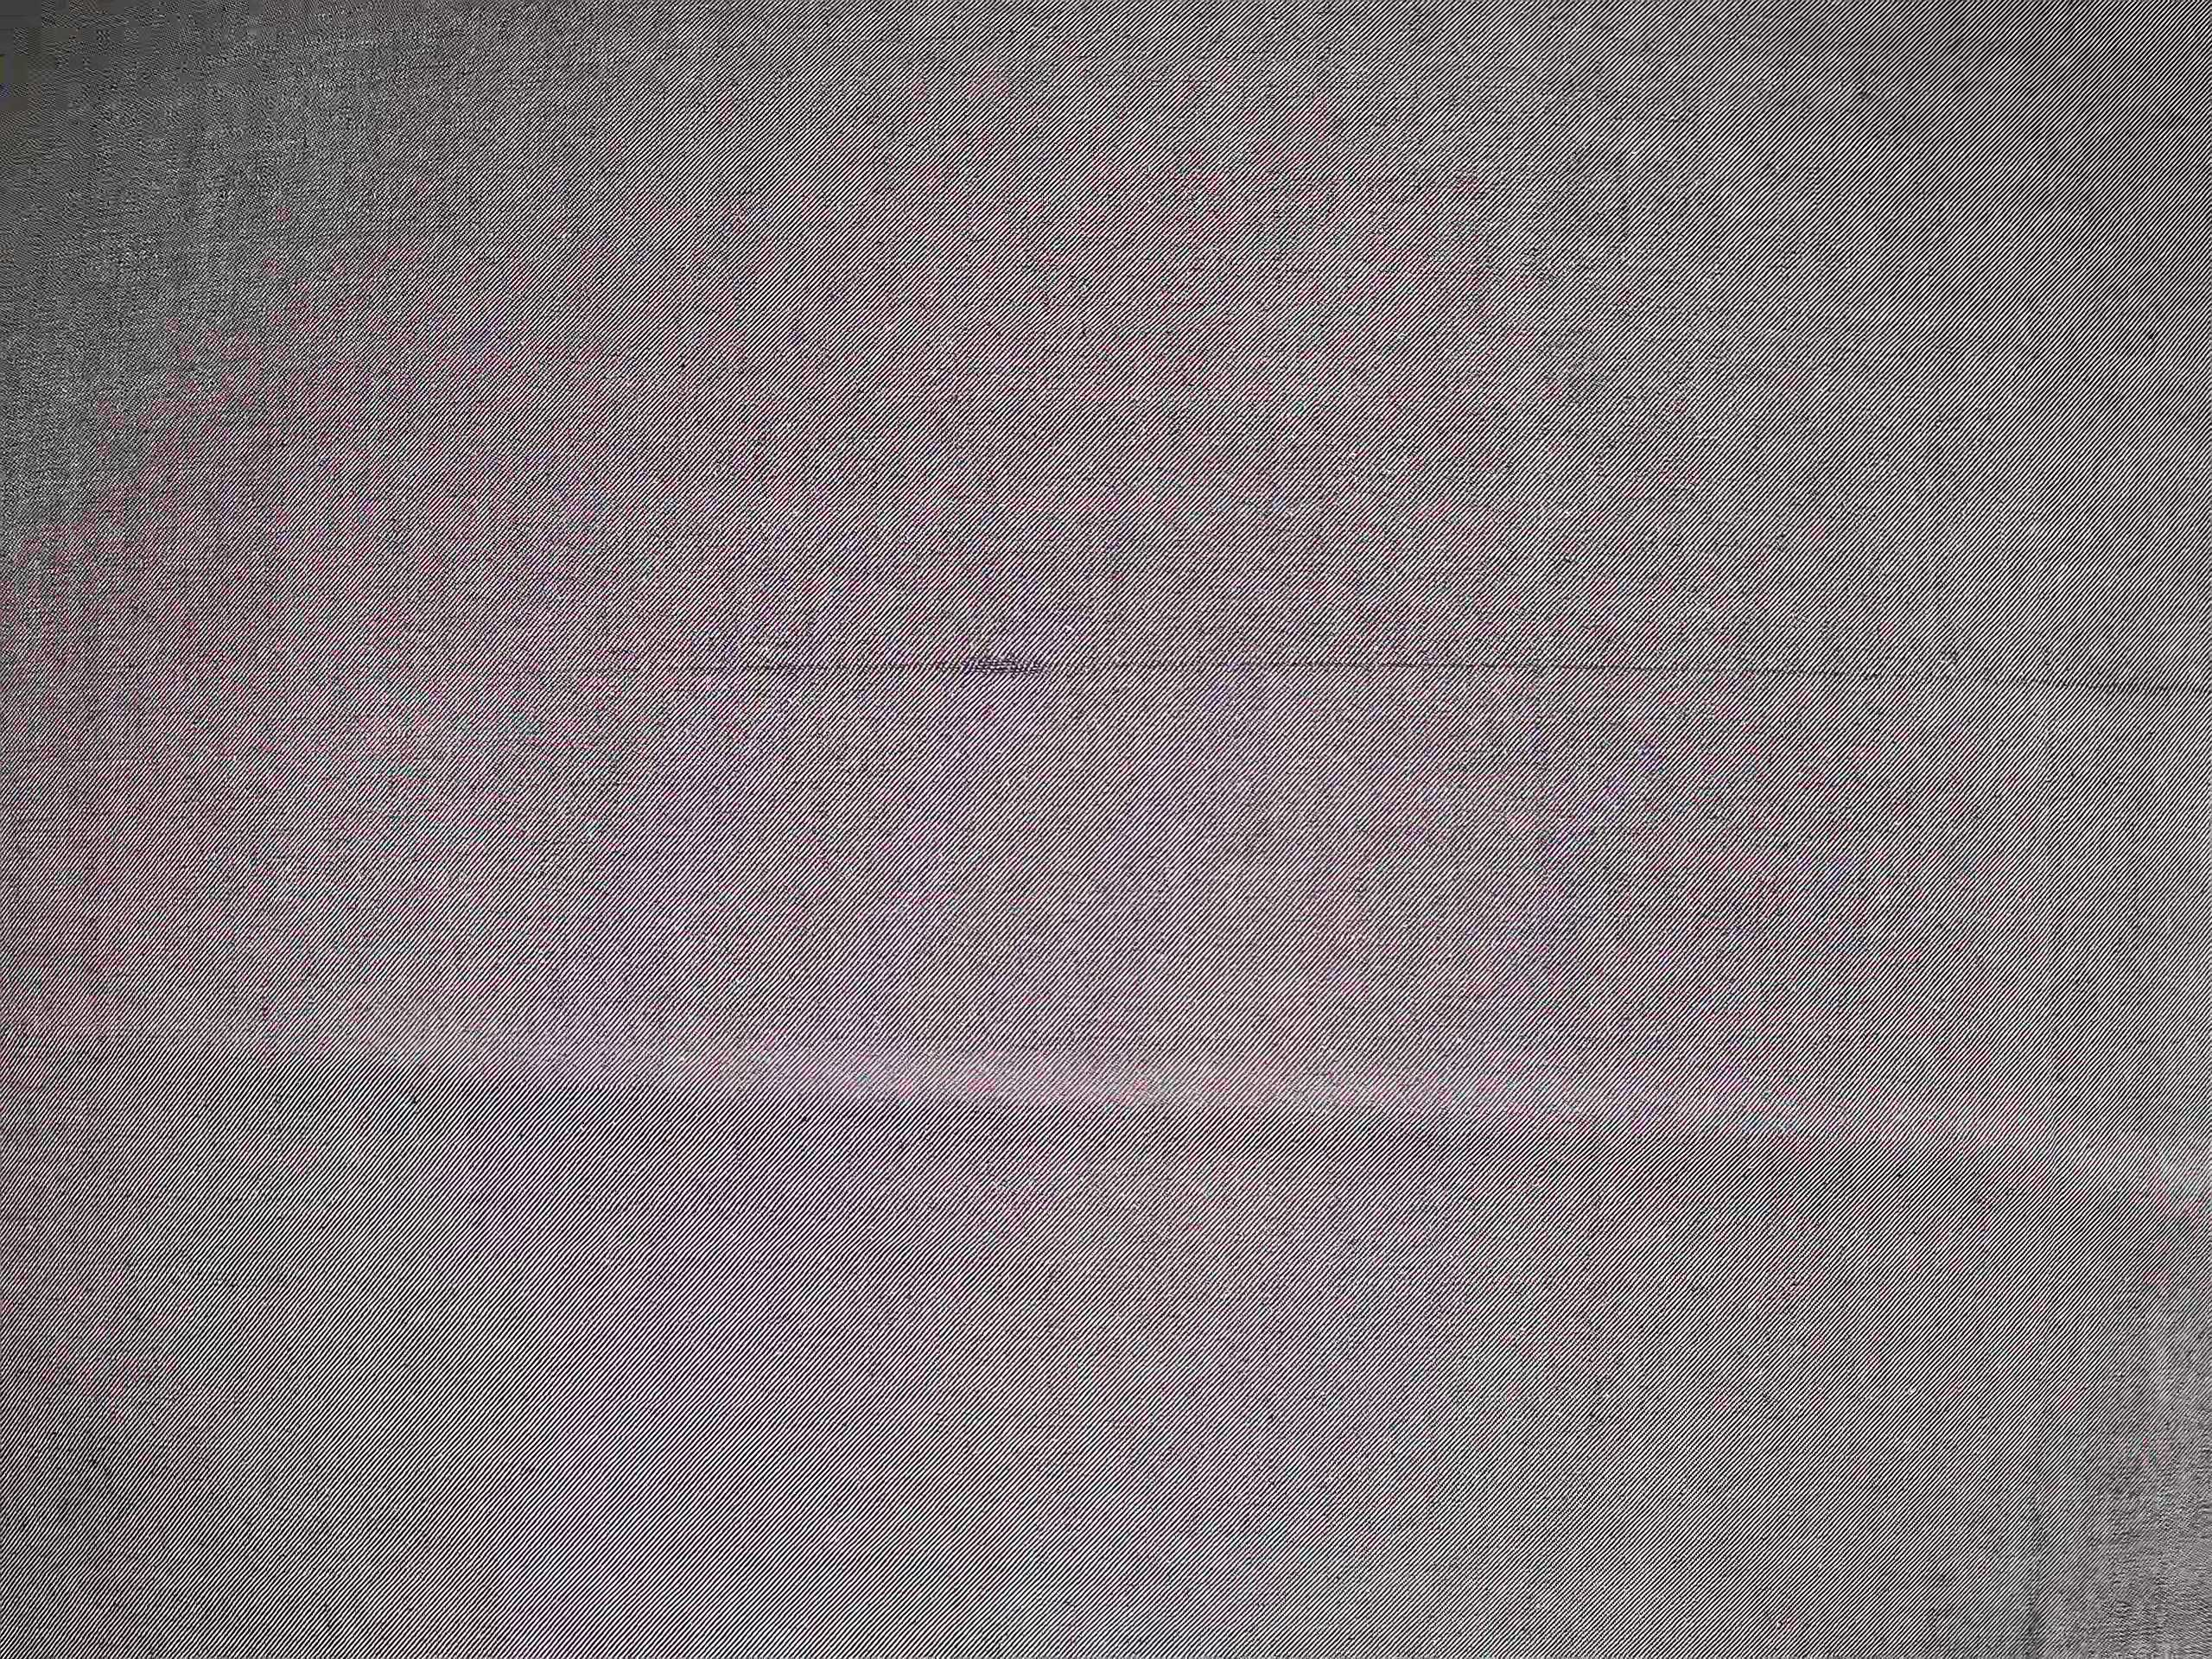thin-spinning: (495, 643, 2212, 716)
